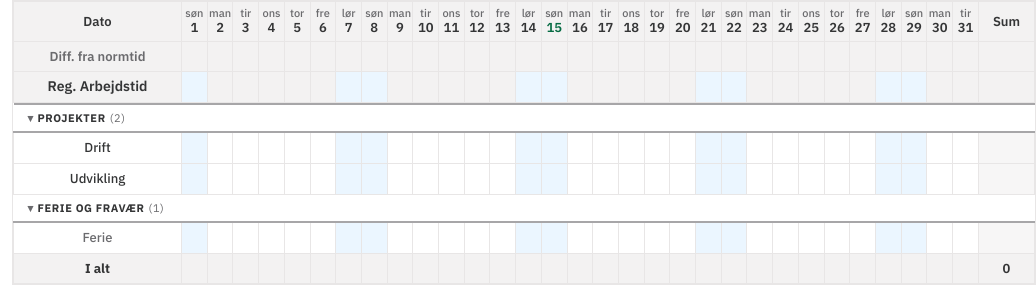
Test: SkemaGrid — disclosure bands › the Projekter band toggles its rows and aria-expanded
Click the button "▾ Projekter (2)". click: (74, 118)
box: [14,105,136,131]
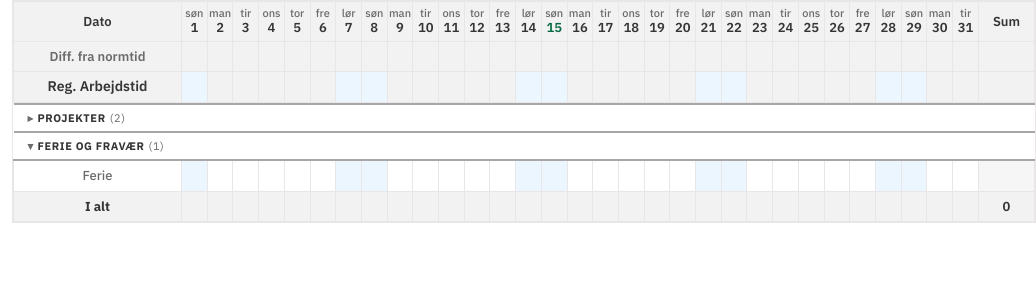
Expected: the button "▸ Projekter (2)" is collapsed
Expected: the button "▸ Projekter (2)" is shown
Click the button "▸ Projekter (2)". click: (74, 118)
box: [14,105,136,131]
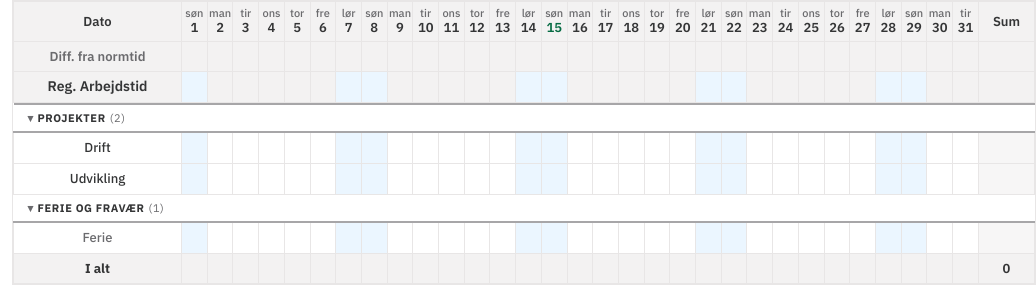
Expected: the row "Drift" is shown, [14,132,1034,163]
